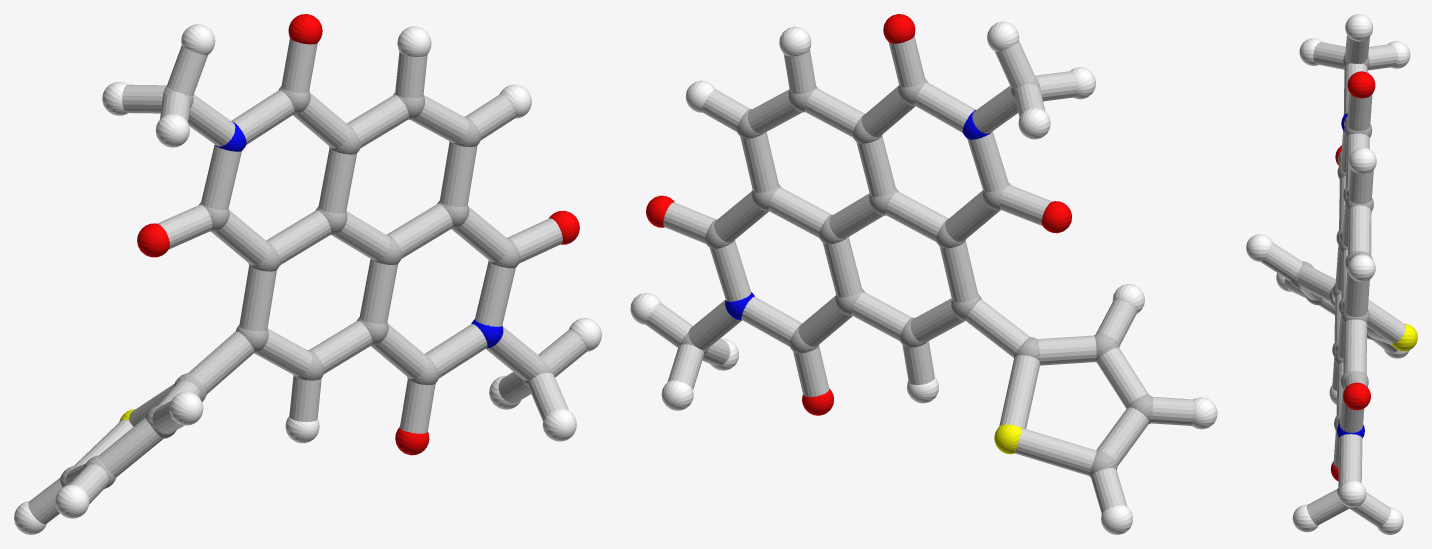
File: color.glb
3 views of the same model, side by side, from view 1: azimuth 30°, elevation 25°; view 2: azimuth 150°, elevation 25°; view 3: azimuth 270°, elevation 25° (orthographic). The views are drawn at different scales.
Visible parts, largest first — view 1: grp14119, grp7241, grp1, grp12309, grp11585; view 2: grp14119, grp7241, grp1, grp12309, grp11585; view 3: grp14119, grp7241, grp1, grp12309, grp13757, grp11585.
Part boxes in pixels (x1,y1,x2,y2): grp14119: (28, 38, 587, 524); grp7241: (14, 24, 601, 534); grp1: (60, 86, 553, 488); grp12309: (137, 14, 579, 455); grp11585: (215, 121, 503, 348); grp14119: (645, 36, 1194, 513); grp7241: (630, 21, 1217, 534); grp1: (679, 77, 1152, 477); grp12309: (646, 14, 1071, 415); grp11585: (725, 110, 991, 319); grp14119: (1260, 35, 1406, 527); grp7241: (1246, 14, 1410, 534); grp1: (1289, 53, 1375, 508); grp12309: (1330, 71, 1375, 481); grp13757: (1391, 323, 1417, 351); grp11585: (1337, 113, 1364, 438).
Bounding box in the file's own units: 11.75 × 9.47 × 3.69.
